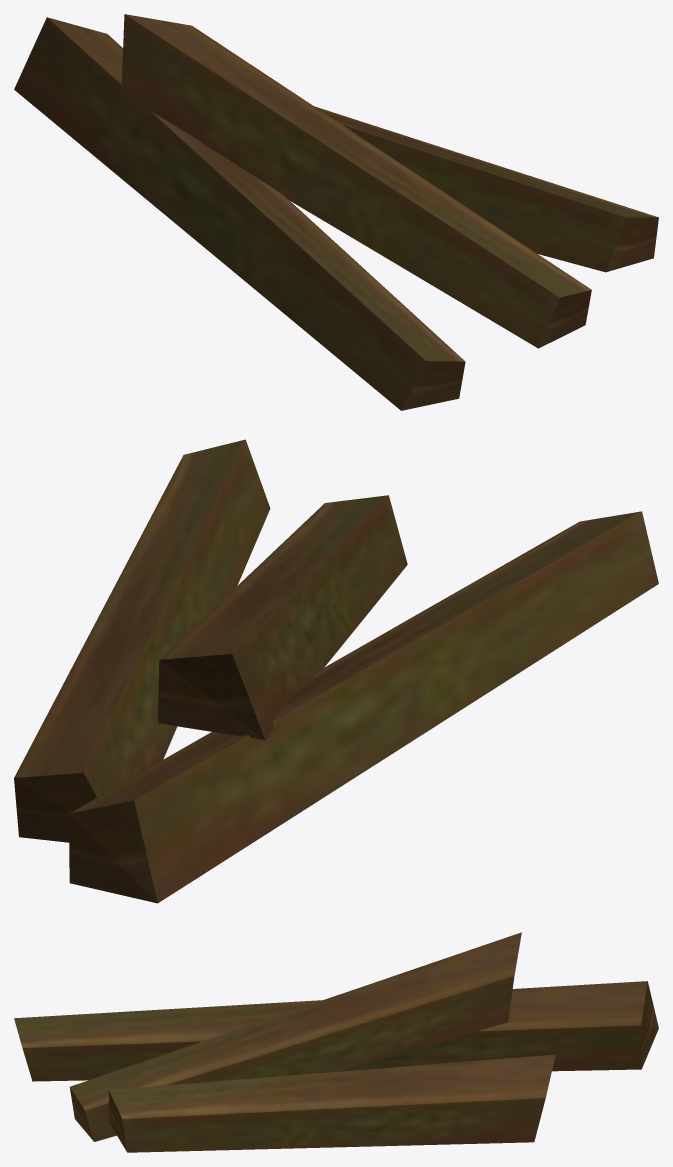
Rendered from Yland3_bj_02 Yland3.FBX.
The picture shows the model from 3 angles, top to bottom: view 1: azimuth 30°, elevation 25°; view 2: azimuth 150°, elevation 25°; view 3: azimuth 270°, elevation 25°; orthographic projection. The views are drawn at different scales.
Visible parts, largest first — view 1: Yland3_bj_02 Yland3; view 2: Yland3_bj_02 Yland3; view 3: Yland3_bj_02 Yland3.
Part boxes in pixels (x1=…): Yland3_bj_02 Yland3: x1=14, y1=14, x2=658, y2=410; Yland3_bj_02 Yland3: x1=14, y1=439, x2=658, y2=903; Yland3_bj_02 Yland3: x1=14, y1=932, x2=658, y2=1152.
Size of the model in its own units: 17.54 by 9.5 by 38.06.
